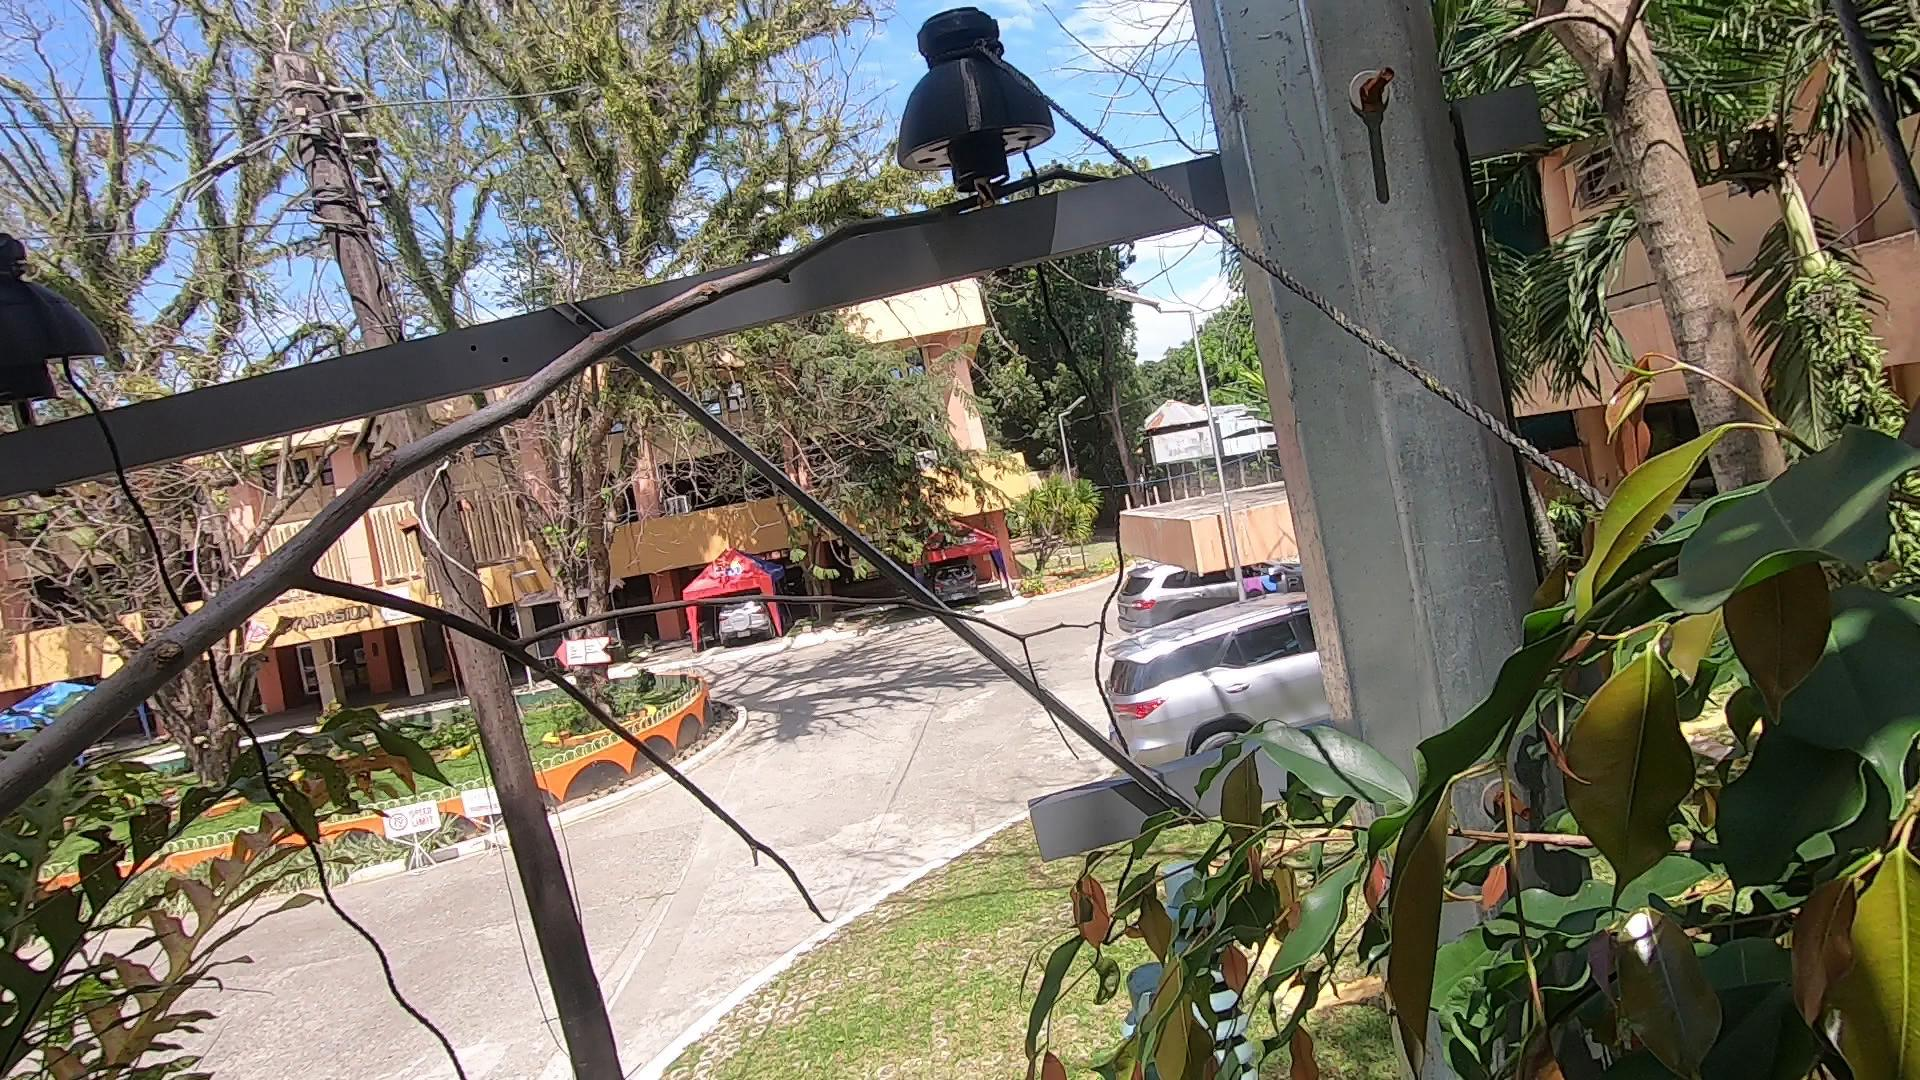branch with leaves: (1051, 448, 1789, 1080)
tree branch: (1, 119, 1167, 818)
